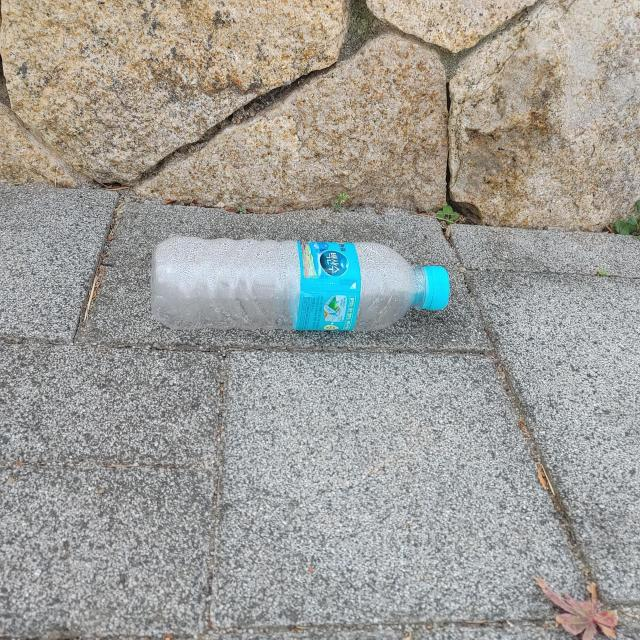plastic: (150, 236, 450, 332)
